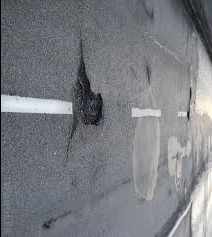pothole: (70, 58, 110, 136), (186, 86, 196, 123)
